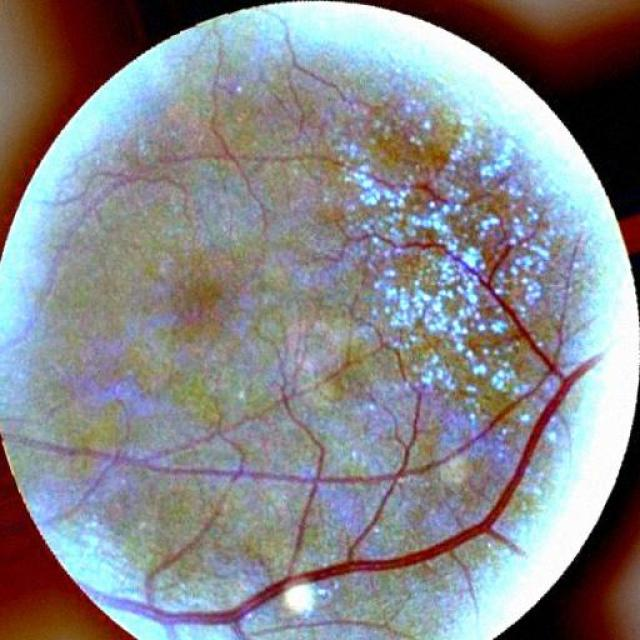Nerves: (10, 230, 599, 625), (160, 115, 304, 228)
